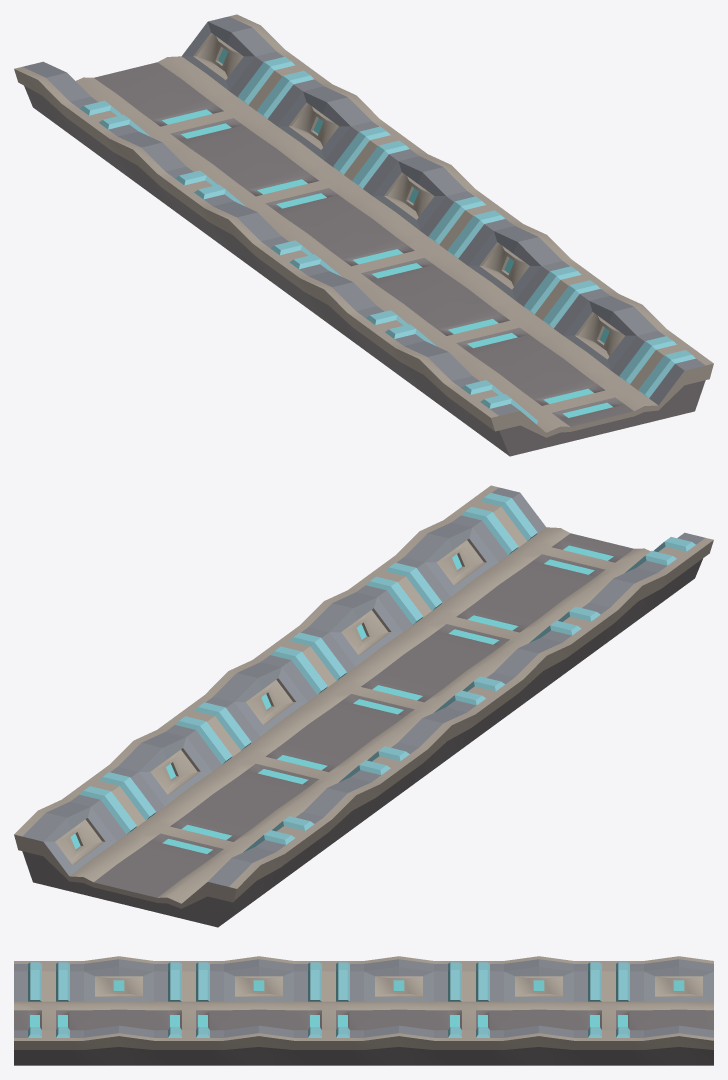
Rendered from sci_fi_bridge.glb.
The picture shows the model from 3 angles, top to bottom: view 1: azimuth 30°, elevation 25°; view 2: azimuth 150°, elevation 25°; view 3: azimuth 270°, elevation 25°; orthographic projection. The views are drawn at different scales.
Parts seen in each view (by area): view 1: Bridge_0; view 2: Bridge_0; view 3: Bridge_0.
Part boxes in pixels (box(x1,y1,x2,y2)): Bridge_0: box(14, 14, 713, 456); Bridge_0: box(14, 485, 713, 927); Bridge_0: box(14, 956, 713, 1065).
Bounding box in the file's own units: 54 × 11.5 × 200.
